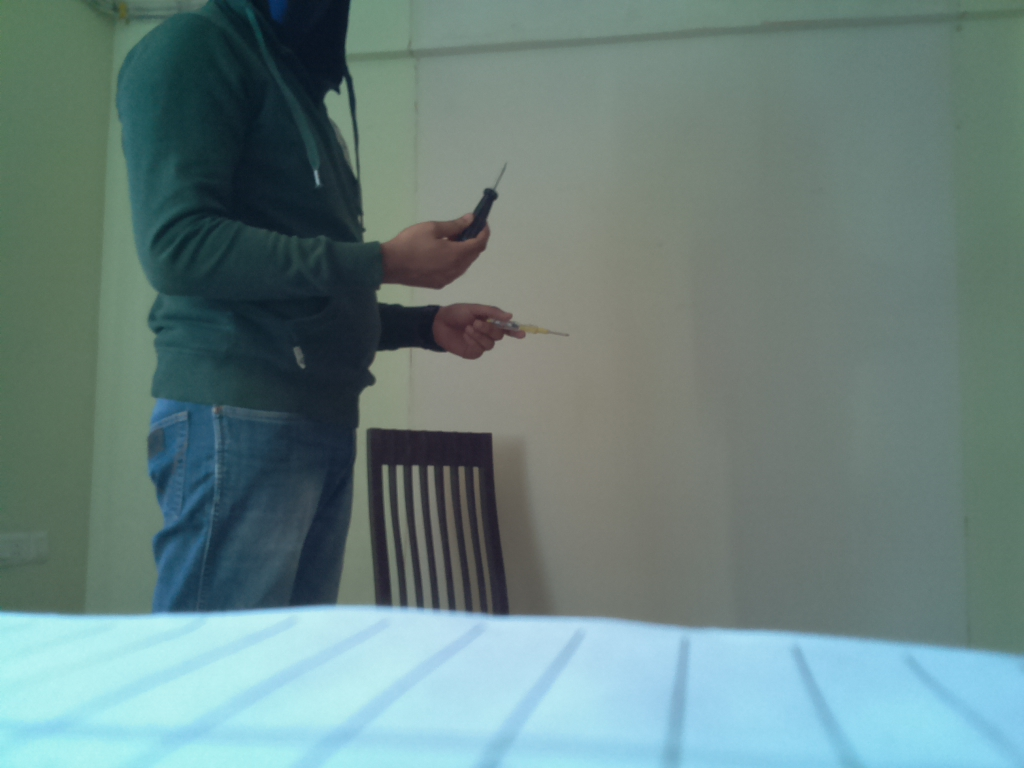none3: (463, 159, 510, 248), (474, 314, 578, 345)
